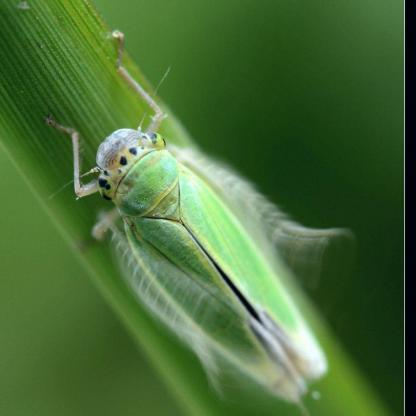Green-Leafhopper: (44, 27, 351, 412)
